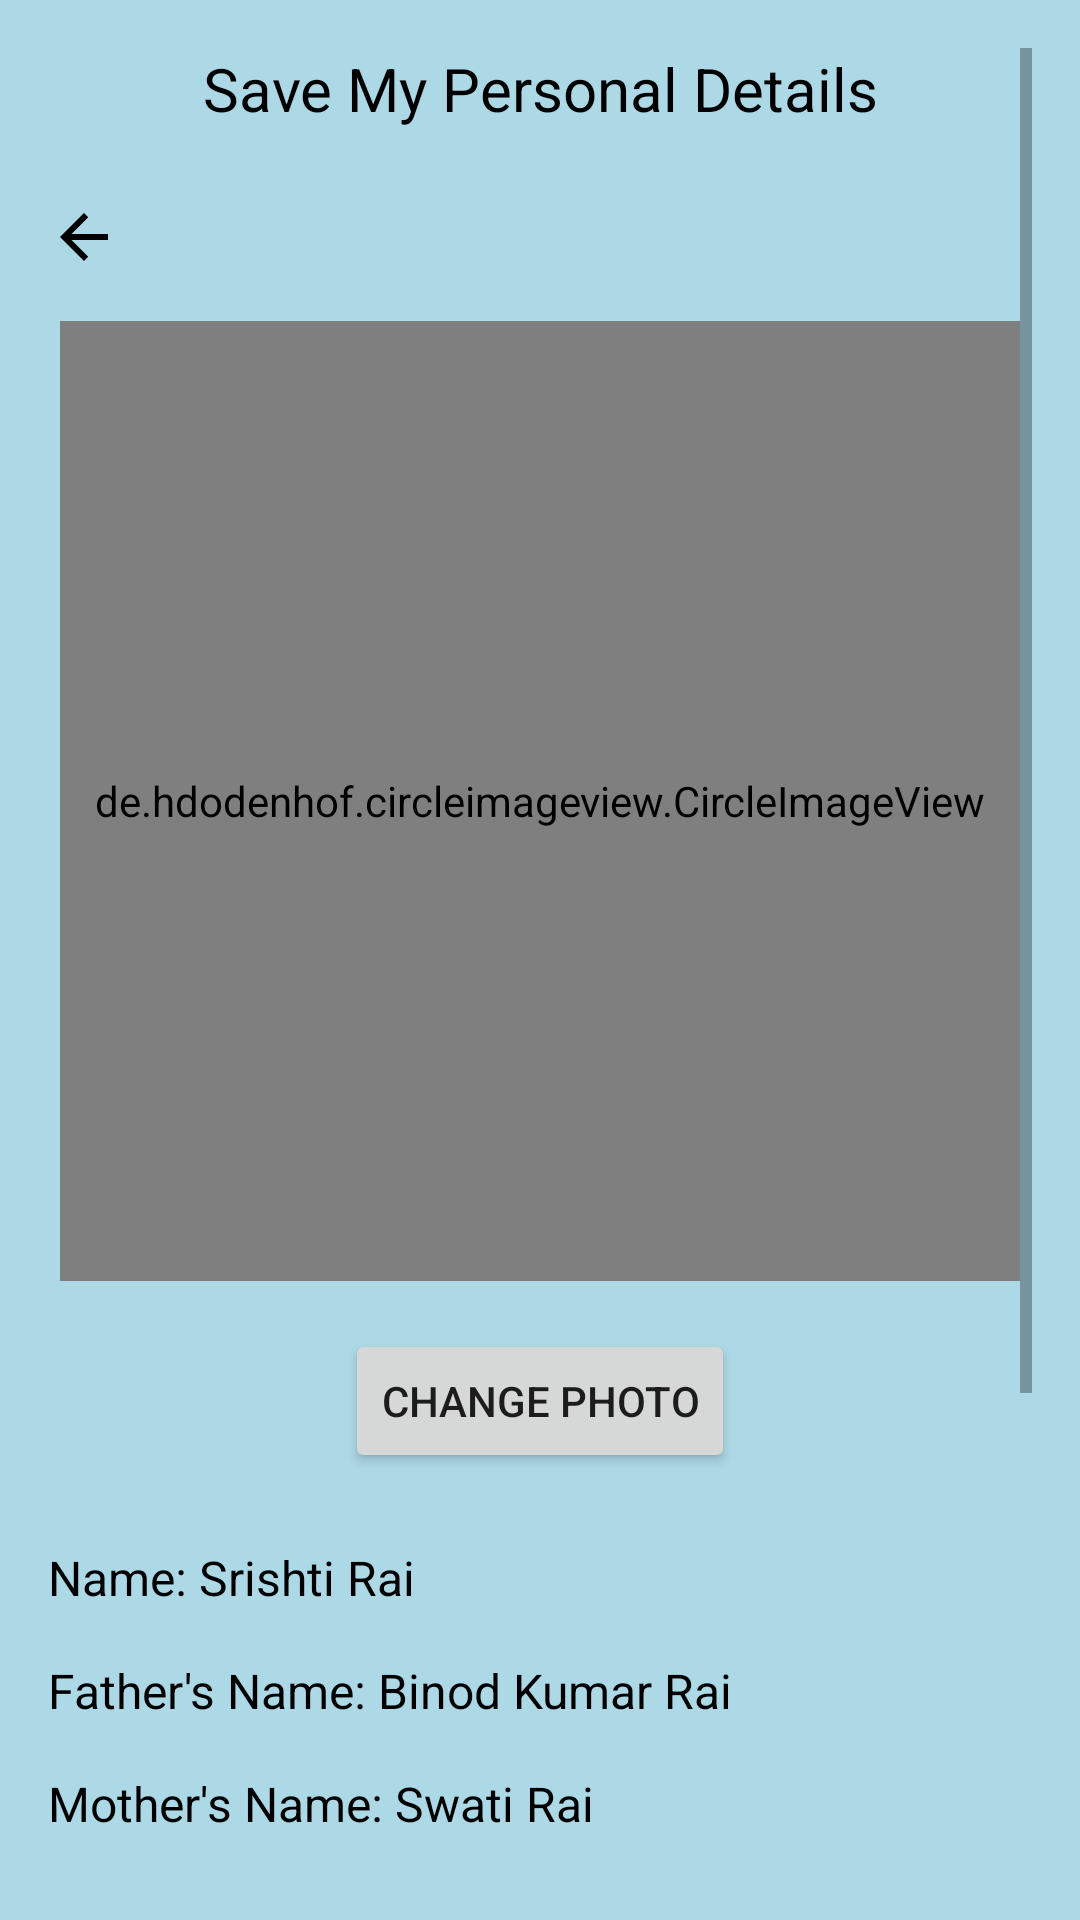

Where to tap for icons on this 1080 × 1920 app screen, as (x=x, y=y):
Back: (x=84, y=237)
